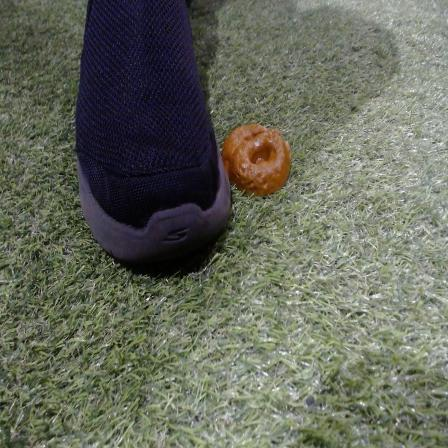dog-poop: (224, 122, 292, 194)
